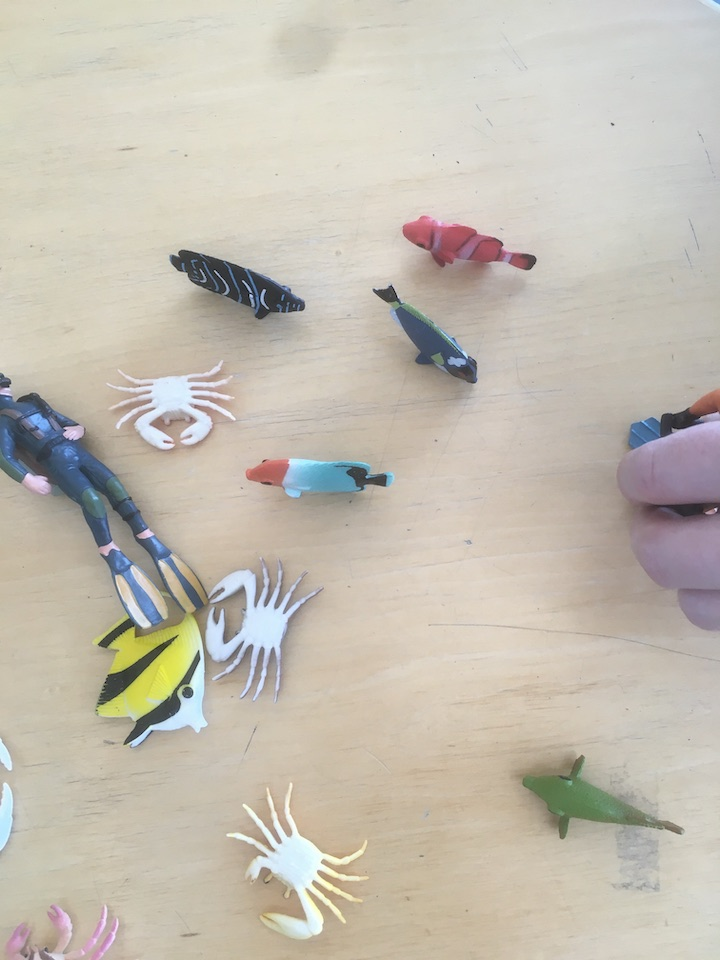crab: (222, 779, 373, 945), (199, 552, 329, 709), (109, 355, 236, 452), (1, 896, 124, 960)
danger: (90, 608, 216, 750)
diver: (1, 365, 211, 631), (620, 387, 720, 451)
fish: (518, 748, 692, 844), (368, 277, 483, 389), (164, 243, 312, 325), (396, 212, 540, 277), (239, 449, 399, 507)
